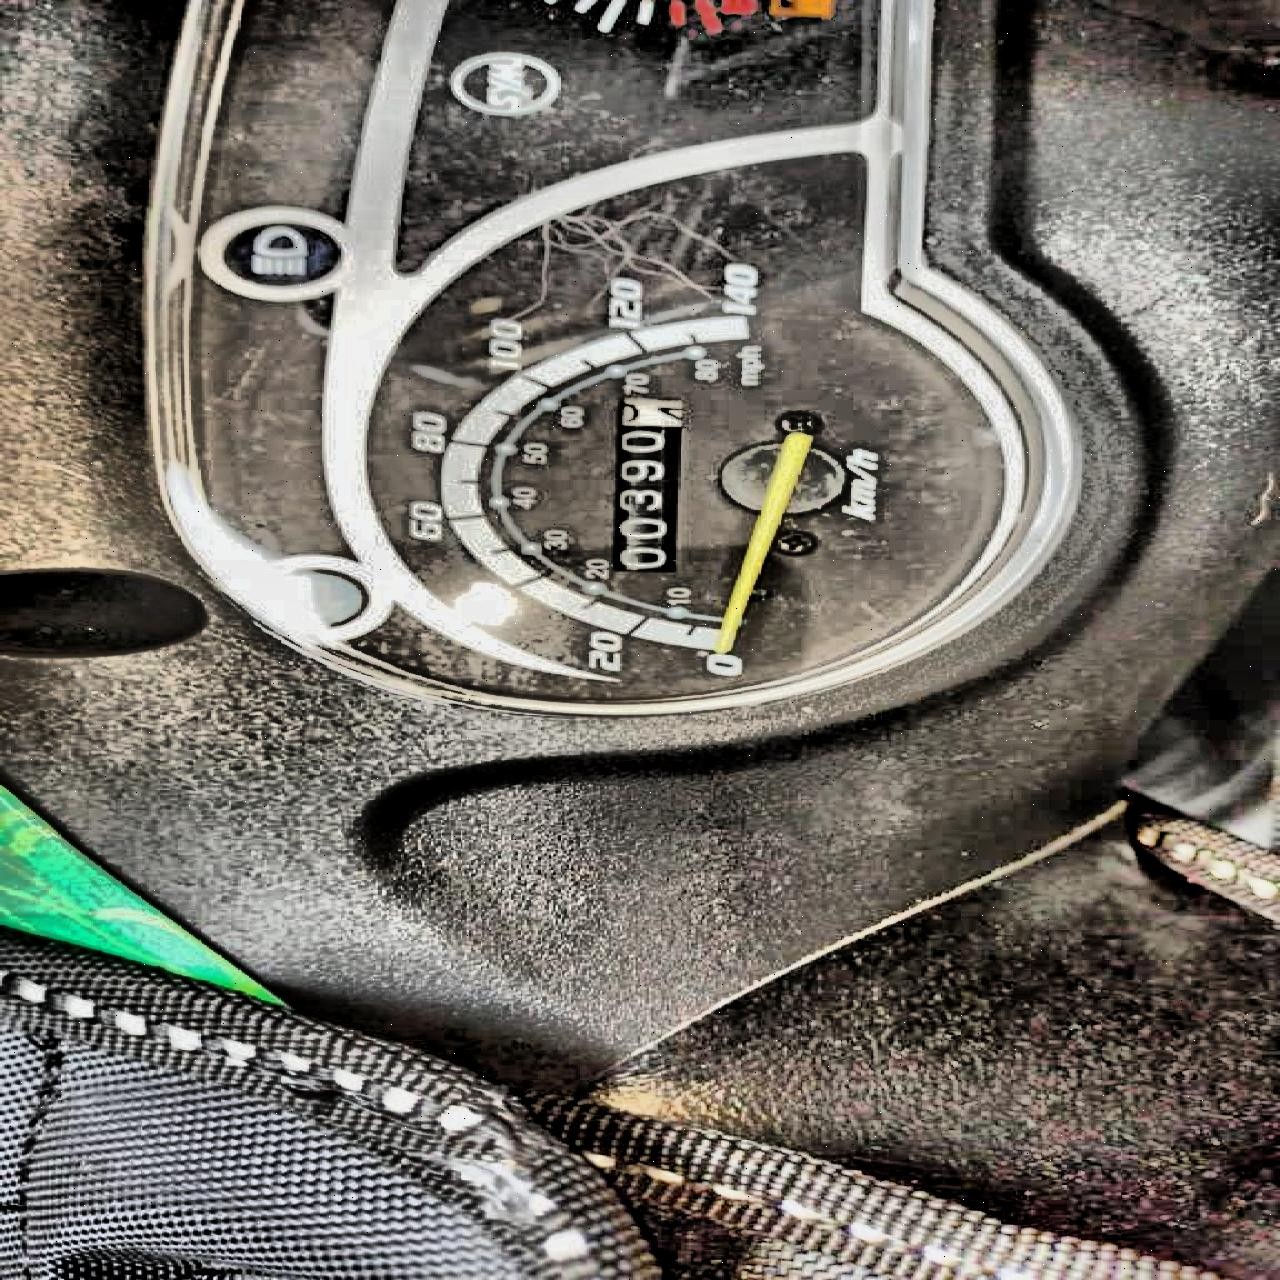0: (611, 545, 669, 570), (613, 517, 669, 542), (611, 429, 665, 454)
3: (613, 486, 665, 511)
4: (645, 399, 685, 421)
9: (613, 458, 665, 481)
odometer: (602, 395, 685, 574)
